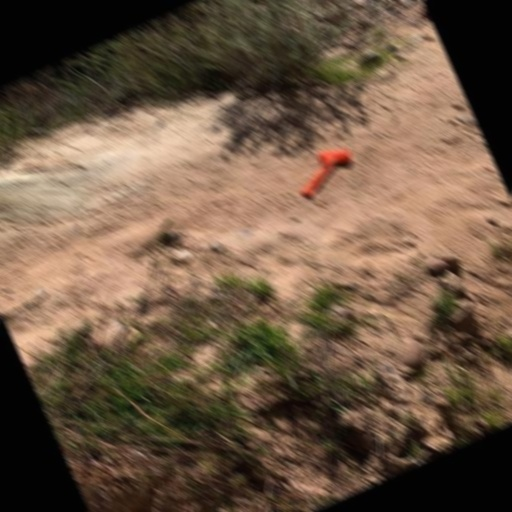mallet: (289, 141, 361, 199)
